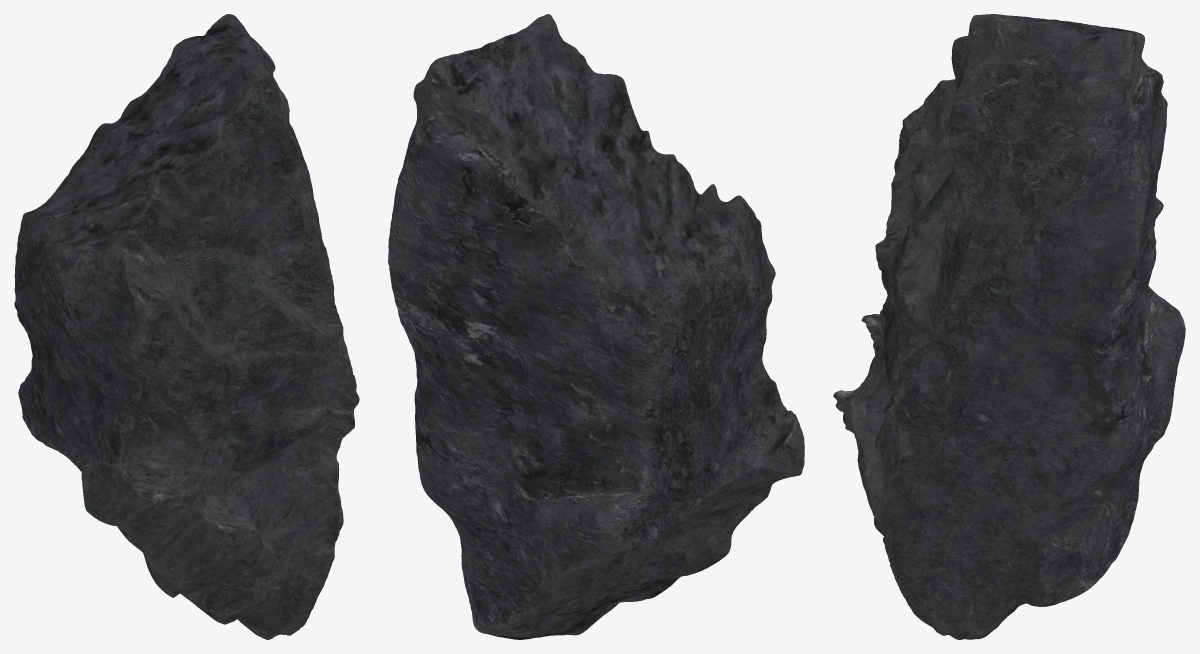
File: stone.glb
3 renders of one model, left to right at view 1: azimuth 30°, elevation 25°; view 2: azimuth 150°, elevation 25°; view 3: azimuth 270°, elevation 25°, orthographic. The views are drawn at different scales.
Visible parts, largest first — view 1: mesh_node; view 2: mesh_node; view 3: mesh_node.
Boxes of the visible parts, x1,y1,x2,y2 form: mesh_node: [14, 14, 359, 639]; mesh_node: [388, 14, 804, 639]; mesh_node: [833, 14, 1185, 639].
Bounding box in the file's own units: 1.01 × 1.9 × 0.9782.
Materials: 1 (1 with a texture image).
